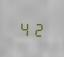four: (19, 19, 30, 36)
two: (31, 19, 42, 37)
